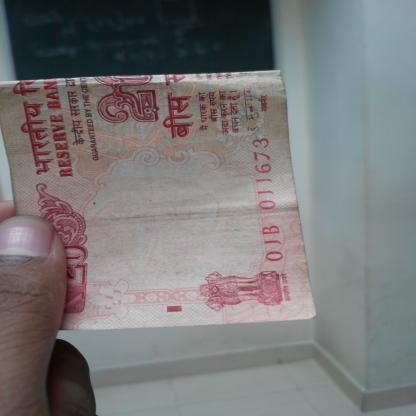Old20Front: (10, 78, 296, 322)
